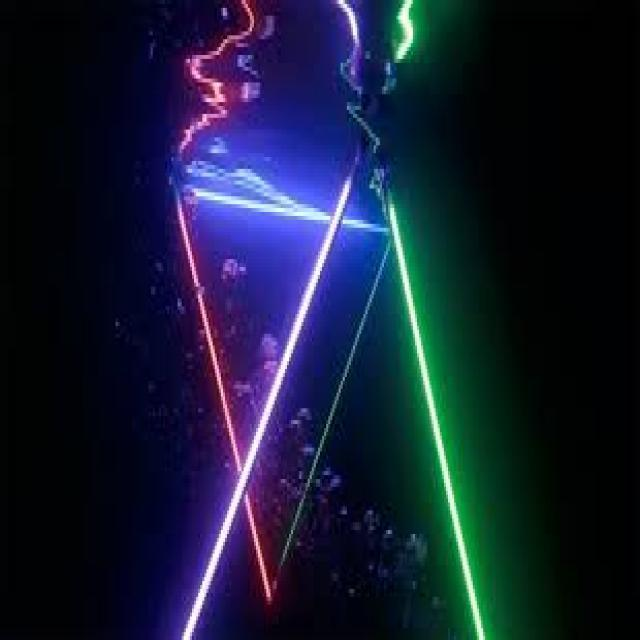tubelight_on: (170, 167, 366, 640), (377, 191, 501, 640), (163, 175, 281, 601), (273, 236, 394, 575), (182, 184, 393, 239)
